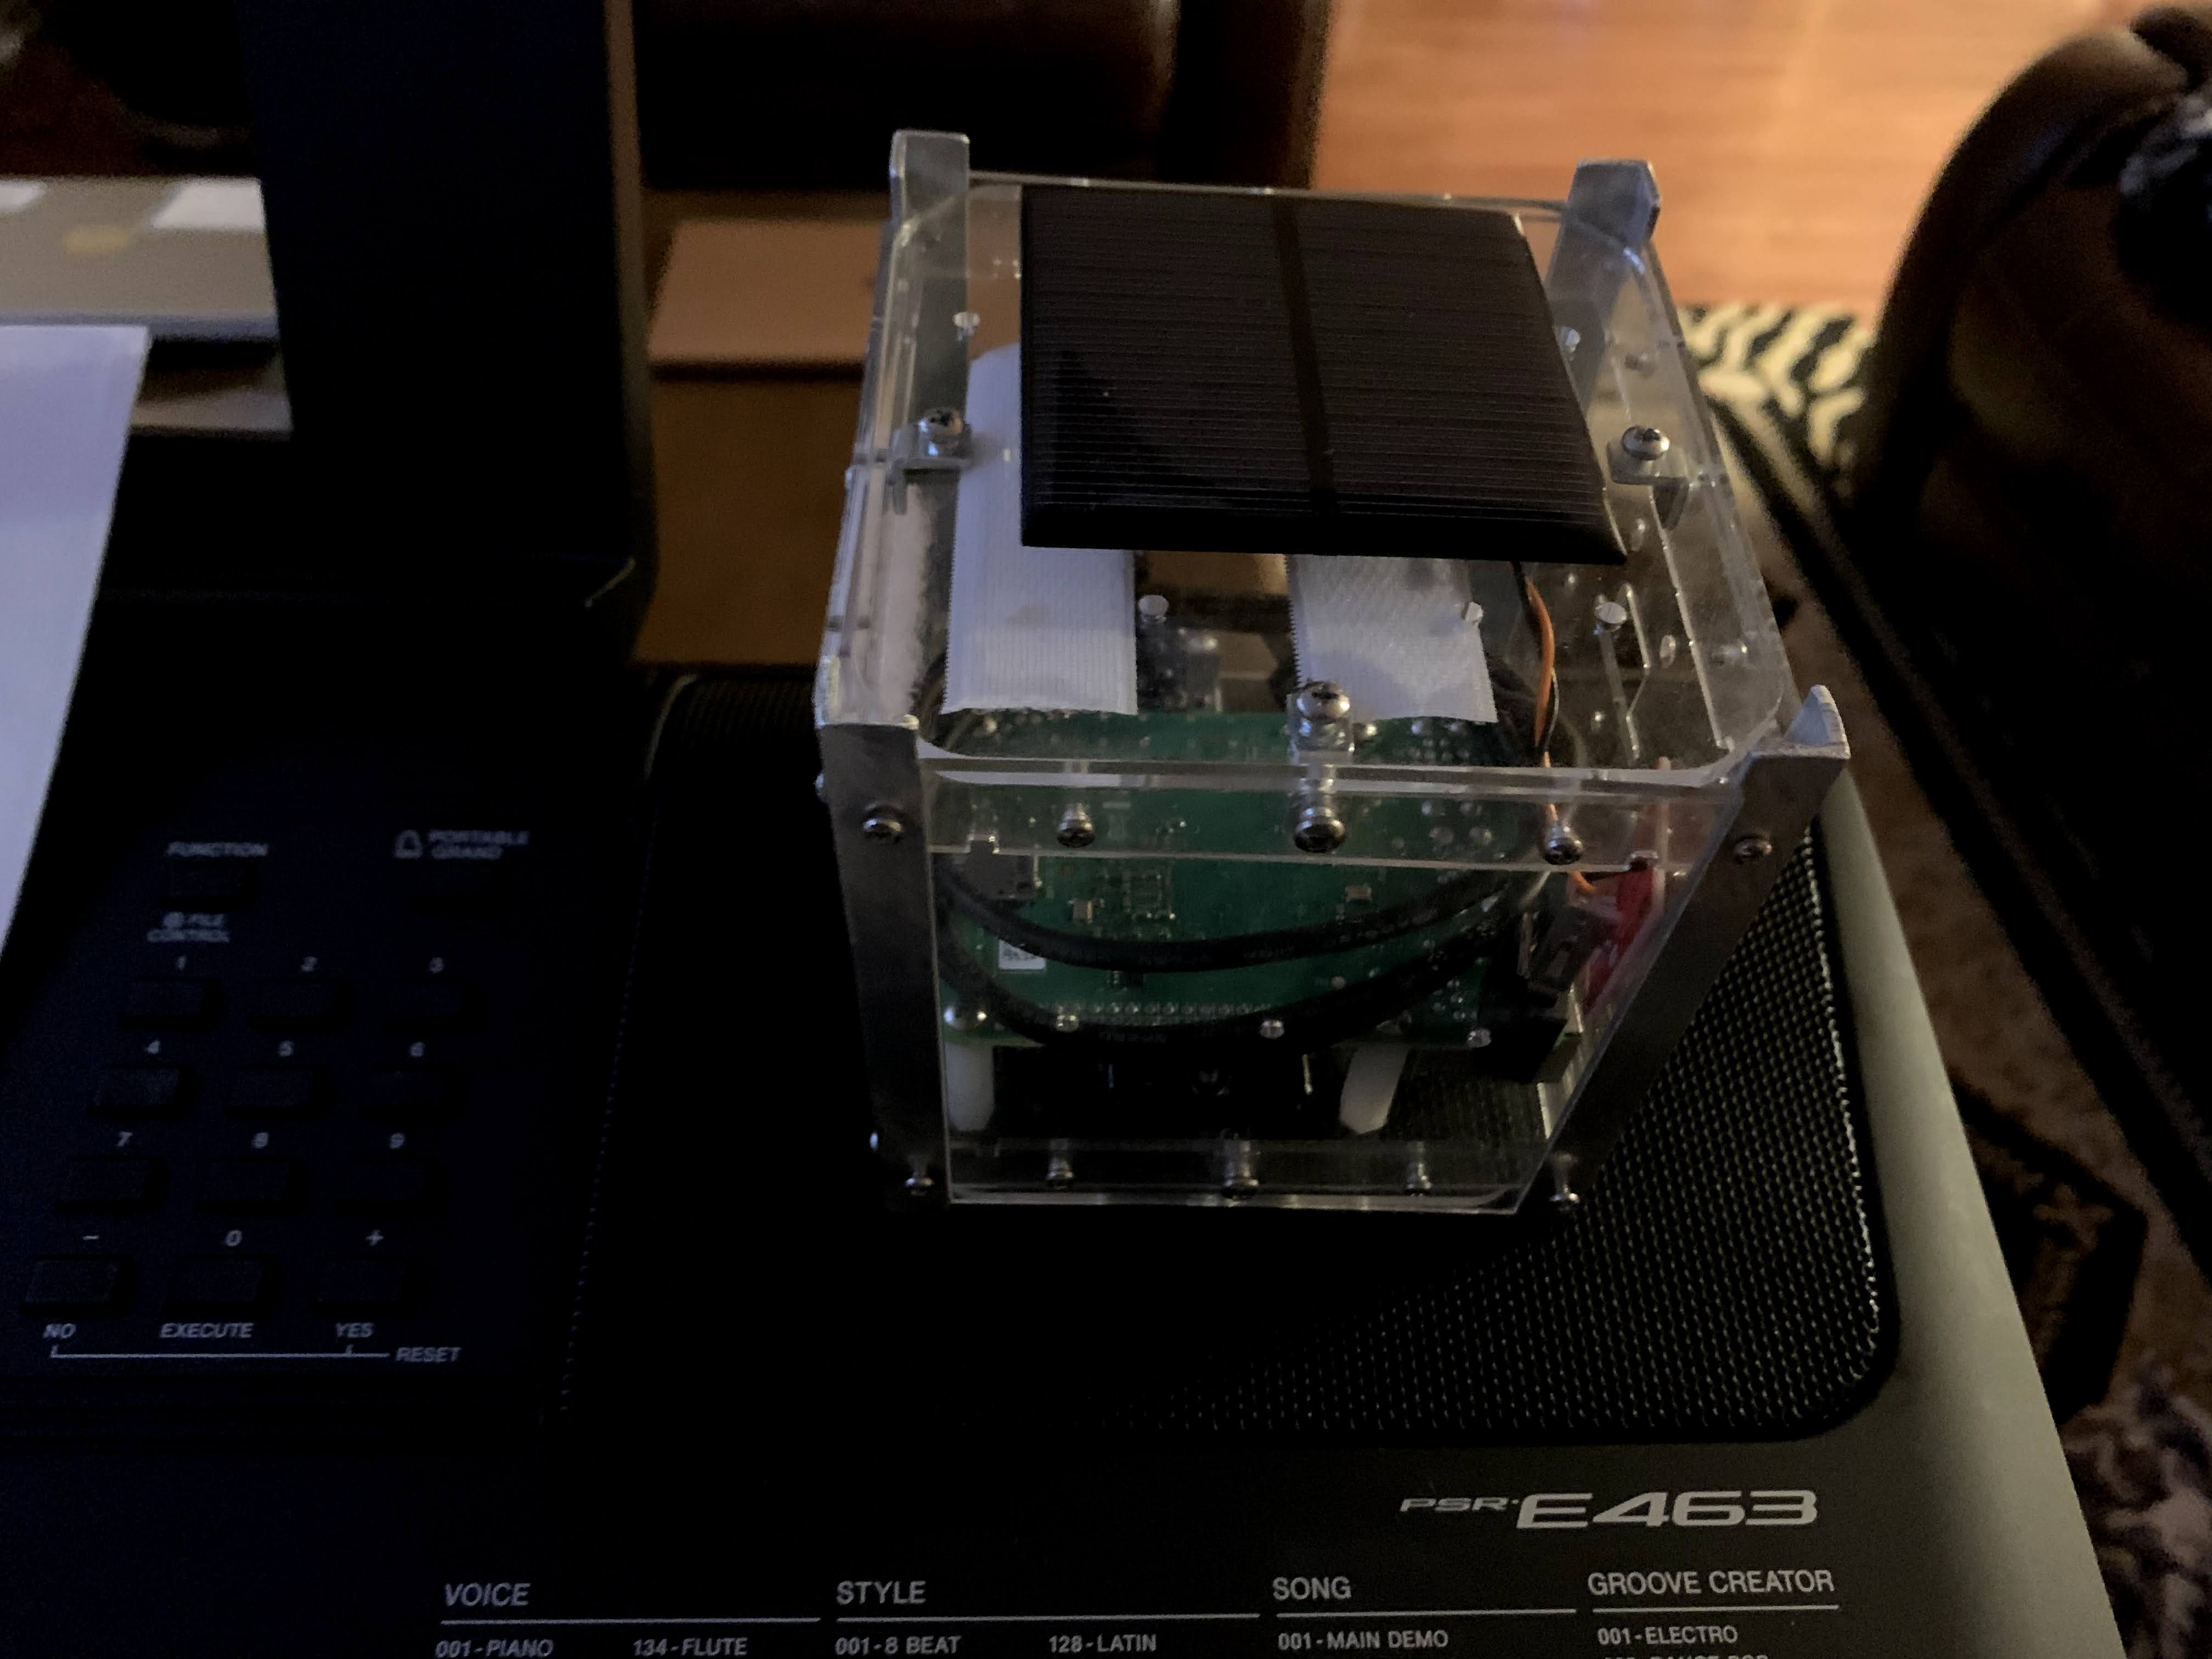Space-debris-cubesat: (808, 98, 1829, 1237)
